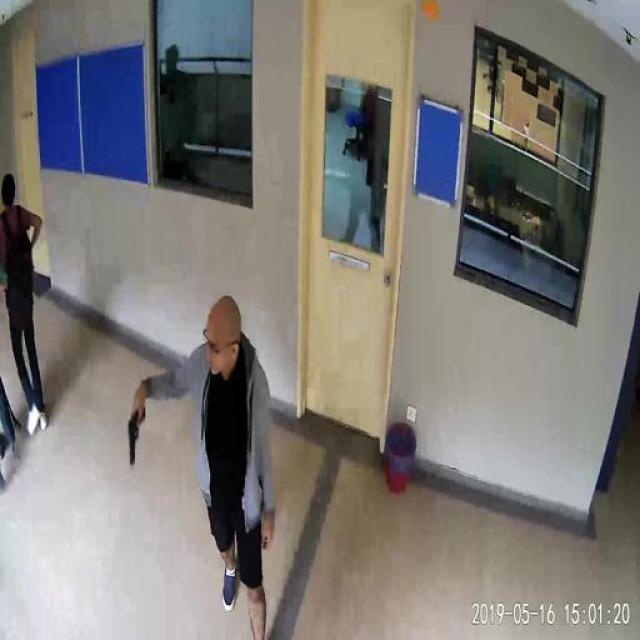Gun: (113, 404, 155, 467)
